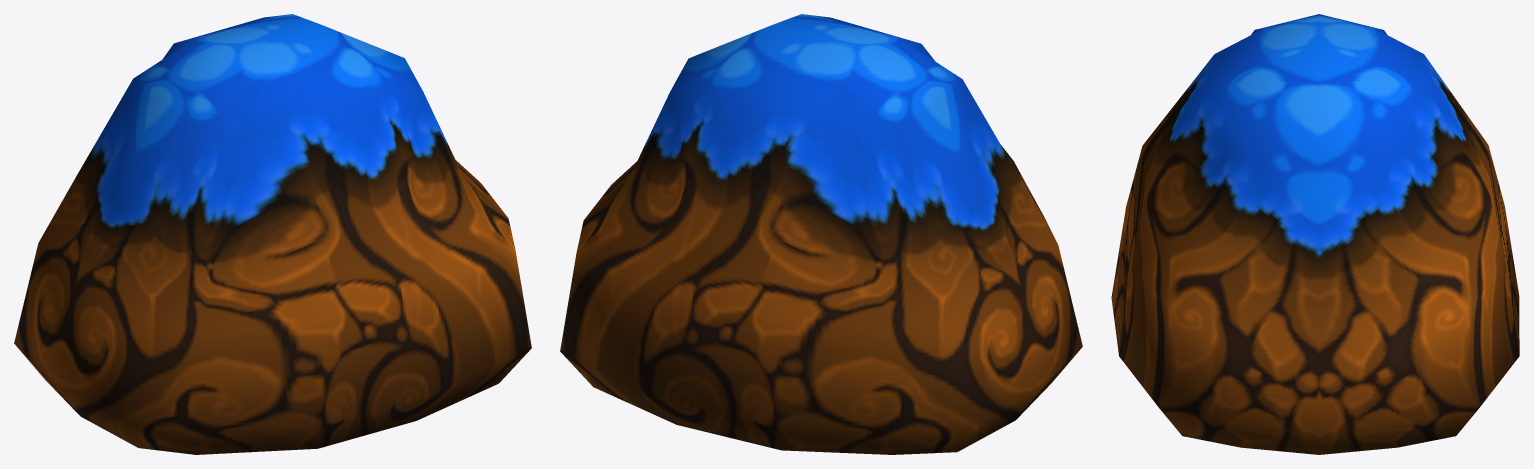
The model's file is Blue_Rock_04.FBX.
3 renders of one model, left to right at view 1: azimuth 30°, elevation 25°; view 2: azimuth 150°, elevation 25°; view 3: azimuth 270°, elevation 25°, orthographic. The views are drawn at different scales.
Visible parts, largest first — view 1: Blue_Rock_04; view 2: Blue_Rock_04; view 3: Blue_Rock_04.
Part boxes in pixels (x1,y1,x2,y2): Blue_Rock_04: (14, 14, 531, 454); Blue_Rock_04: (560, 14, 1082, 454); Blue_Rock_04: (1111, 14, 1519, 454).
Bounding box in the file's own units: 292 × 212 × 243.
